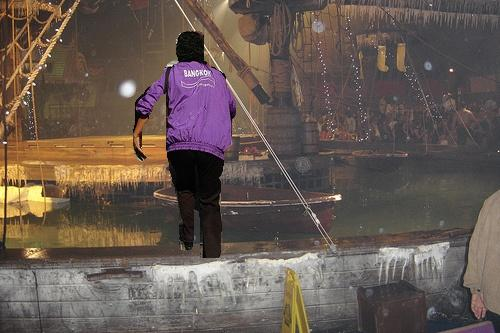tampered: (134, 32, 236, 258)
